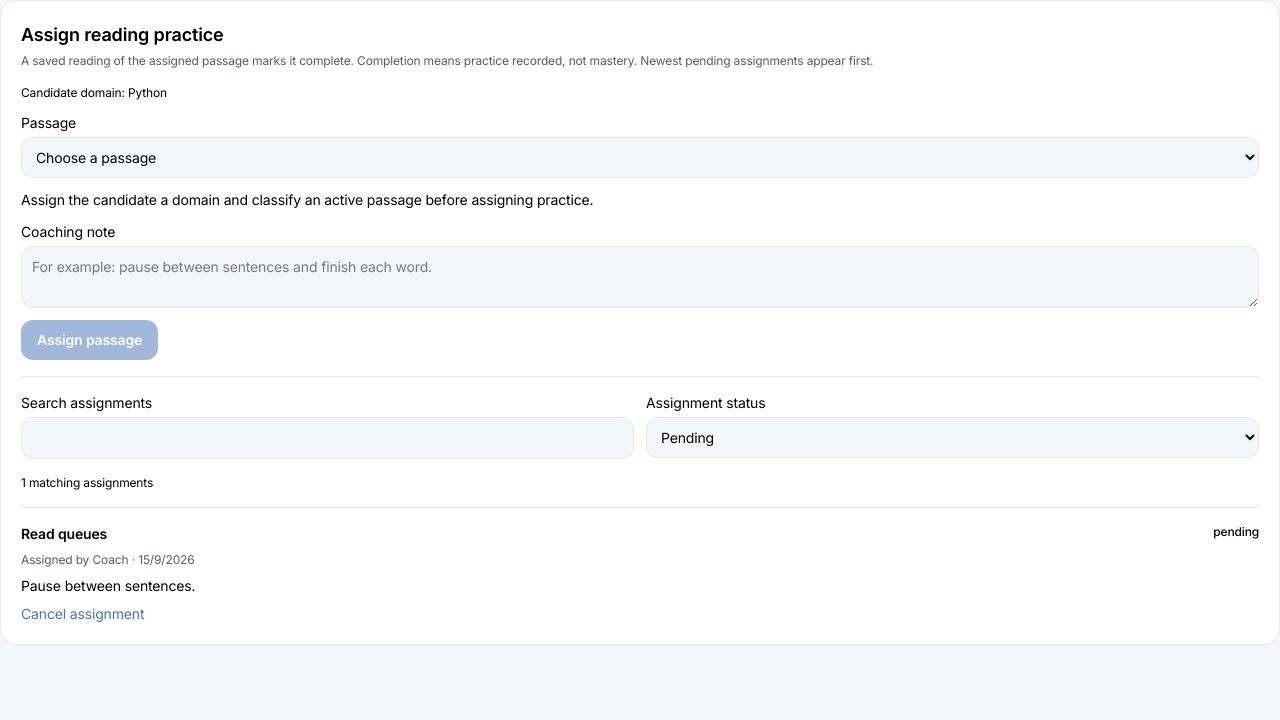
Scenario: retries the failed mutation rather than just reloading
Click the button "Cancel assignment" at {"x": 83, "y": 614}, box [21,604,144,624]
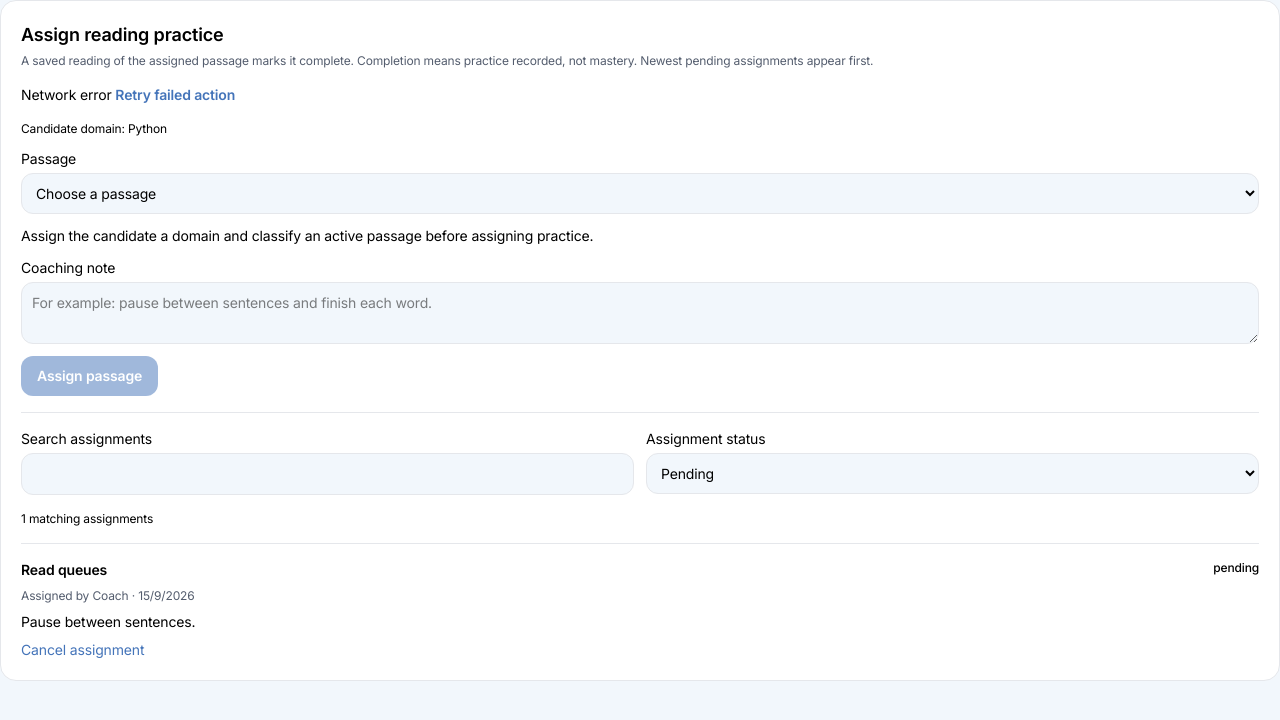
Click the button "Retry failed action" at {"x": 175, "y": 95}, box [115,85,235,105]
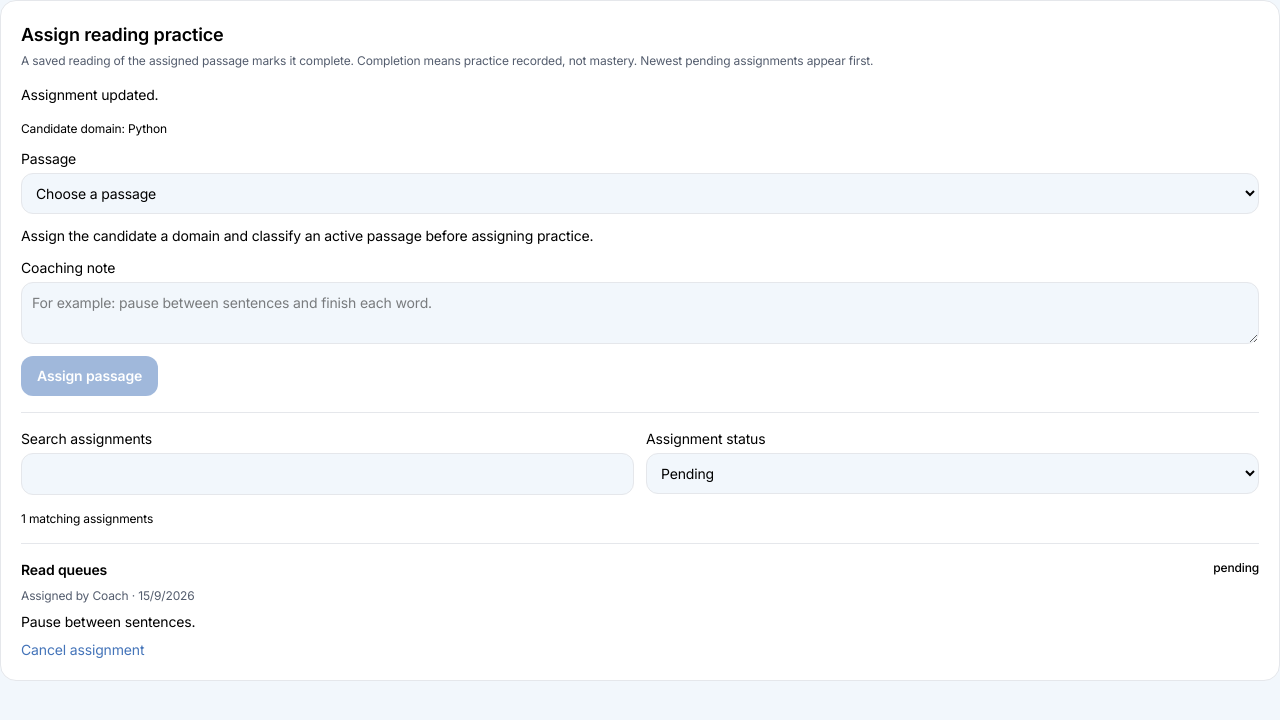
Result: the text "Assignment updated." is shown at [21,86,158,103]
